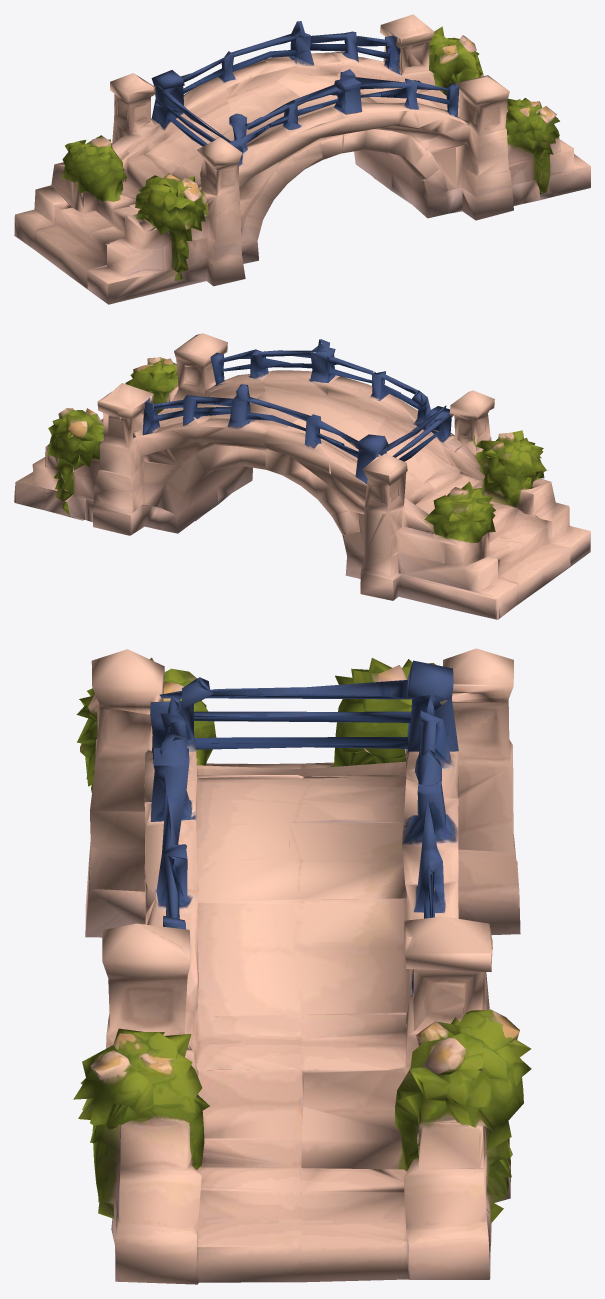
Rendered from M-13_08_bridge.glb.
The picture shows the model from 3 angles, top to bottom: view 1: azimuth 30°, elevation 25°; view 2: azimuth 150°, elevation 25°; view 3: azimuth 270°, elevation 25°; orthographic projection. The views are drawn at different scales.
Visible parts, largest first — view 1: canal_bridge; view 2: canal_bridge; view 3: canal_bridge.
Part boxes in pixels (<box>): canal_bridge: <box>14,14,590,304</box>; canal_bridge: <box>14,333,590,619</box>; canal_bridge: <box>73,648,531,1284</box>.
Size of the model in its own units: 9.02 by 2.94 by 3.7.
Materials: 1 (1 with a texture image).
